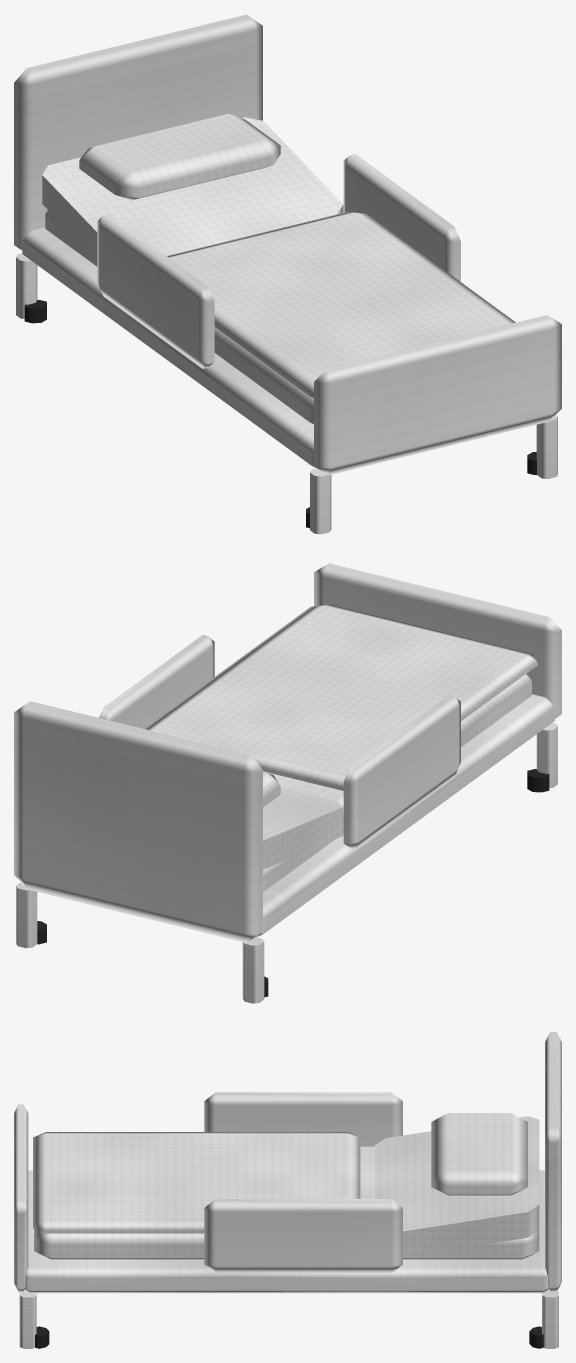
The model's file is hospital_bed.obj.
The picture shows the model from 3 angles, top to bottom: view 1: azimuth 30°, elevation 25°; view 2: azimuth 150°, elevation 25°; view 3: azimuth 270°, elevation 25°; orthographic projection. The views are drawn at different scales.
Parts seen in each view (by area): view 1: blanket, headboard, footboard, inclined_head_mattress, pillow, left_patient_guard, metal_frame, right_patient_guard, main_mattress, leg_1, leg_3, leg_2; view 2: headboard, blanket, footboard, left_patient_guard, metal_frame, right_patient_guard, inclined_head_mattress, main_mattress, leg_2, leg_4, leg_1; view 3: blanket, metal_frame, right_patient_guard, inclined_head_mattress, left_patient_guard, main_mattress, pillow, headboard, footboard, leg_3, leg_4.
Boxes of the visible parts, box(x1,y1,x2,y2) form: blanket: box(167, 211, 515, 397); headboard: box(14, 14, 262, 250); footboard: box(314, 315, 561, 474); inclined_head_mattress: box(42, 117, 343, 255); pillow: box(79, 113, 280, 200); left_patient_guard: box(97, 214, 214, 368); metal_frame: box(22, 227, 321, 470); right_patient_guard: box(343, 154, 460, 281); main_mattress: box(45, 210, 333, 424); leg_1: box(310, 468, 331, 534); leg_3: box(536, 415, 557, 478); leg_2: box(16, 253, 37, 318); headboard: box(14, 701, 262, 942); blanket: box(144, 604, 537, 790); footboard: box(314, 563, 561, 718); left_patient_guard: box(343, 695, 460, 849); metal_frame: box(255, 694, 554, 937); right_patient_guard: box(99, 635, 214, 728); inclined_head_mattress: box(263, 787, 343, 869); main_mattress: box(263, 673, 531, 890); leg_2: box(242, 937, 264, 1003); leg_4: box(16, 882, 37, 948); leg_1: box(536, 722, 557, 788); blanket: box(33, 1132, 360, 1233); metal_frame: box(24, 1170, 548, 1293); right_patient_guard: box(204, 1199, 402, 1273); inclined_head_mattress: box(374, 1116, 539, 1254); left_patient_guard: box(204, 1092, 402, 1146); main_mattress: box(34, 1146, 539, 1260); pillow: box(431, 1113, 527, 1196); headboard: box(545, 1032, 561, 1292); footboard: box(14, 1104, 28, 1292); leg_3: box(19, 1290, 36, 1348); leg_4: box(542, 1290, 558, 1348).
Size of the model in its own units: 0.94 by 0.84 by 1.93.
